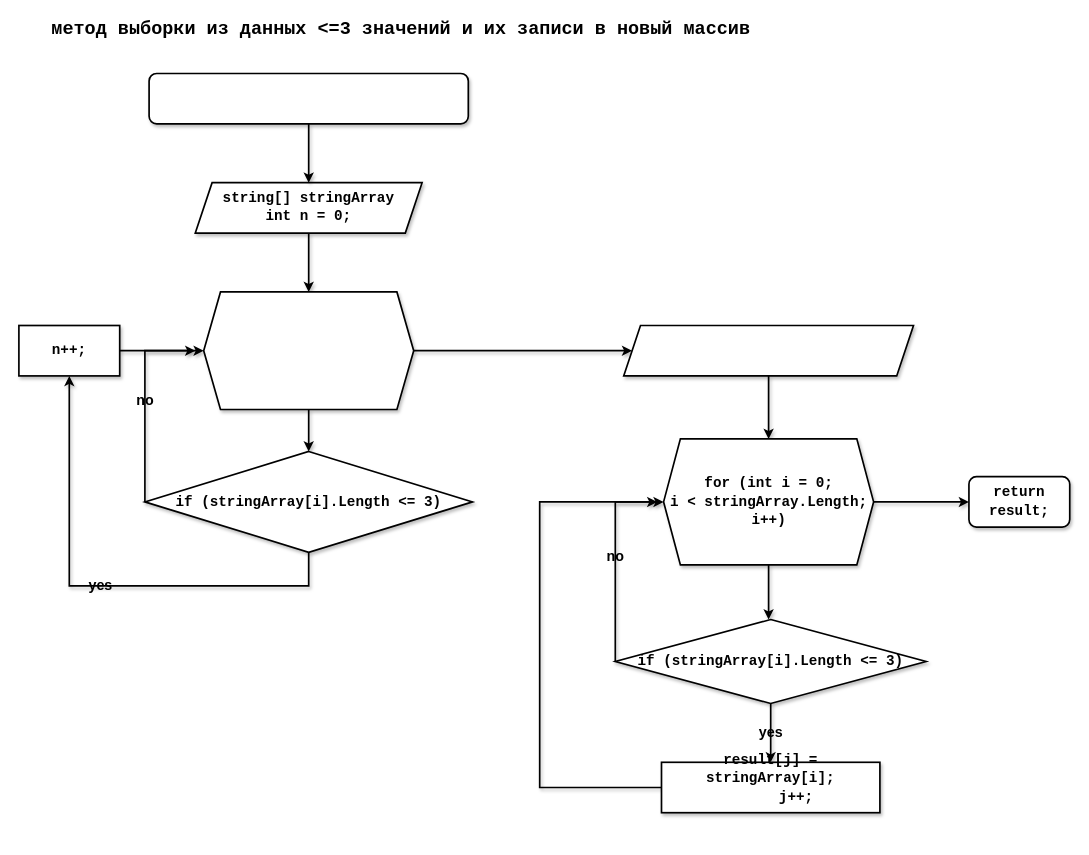
Image size: 1089x855. Some labels were removed from this diagram. The shapes that lost their labels are listed below. From the top down, each one's centre as x and y in pixels, then its label:
At point 309,99: "string [] data ( string [] stringArray )".
At point 309,351: "for (int i = 0; i < stringArray.Length; i++)".
At point 769,351: "string [] result = new string [ n ]; int j = 0 ;".
